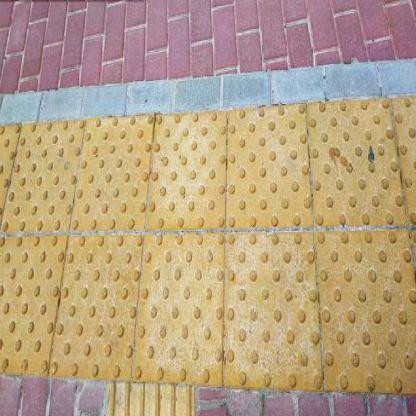podotacti: (1, 93, 416, 414)
